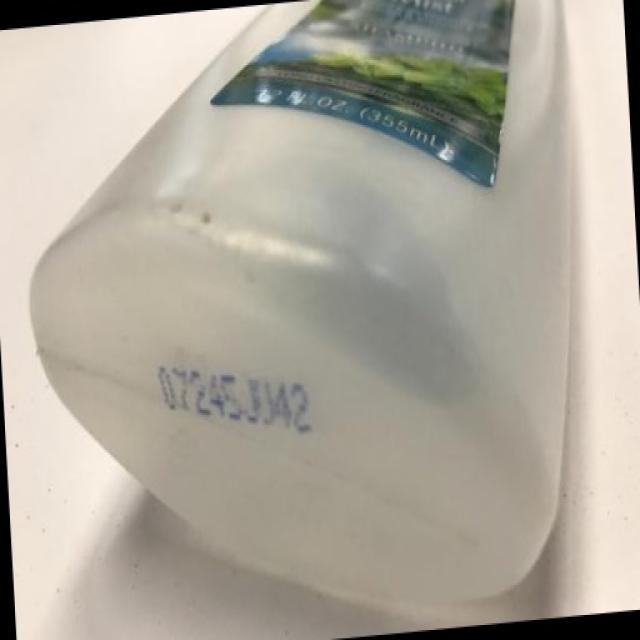plastico: (33, 0, 609, 623)
